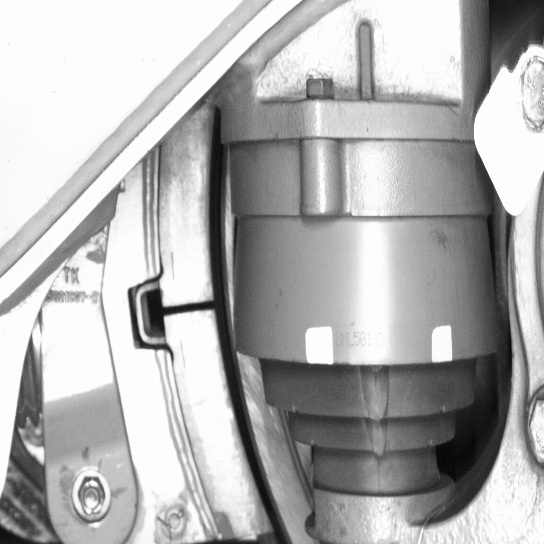KnifeSwitch: (158, 141, 291, 541)
